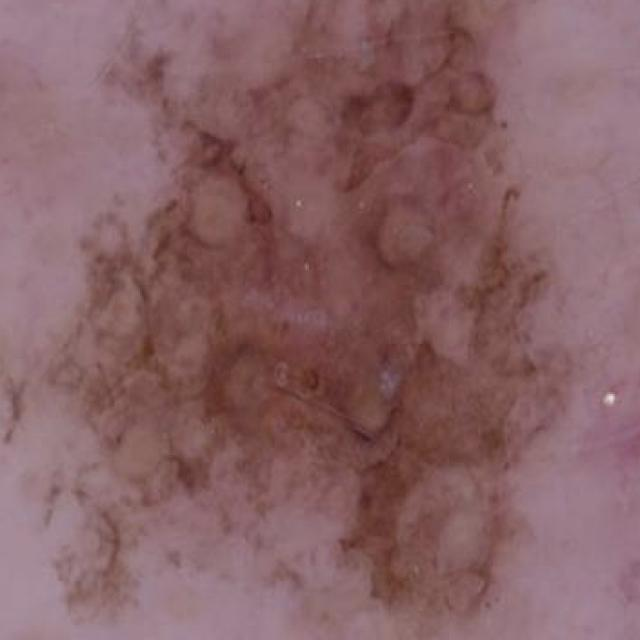BKL: (51, 0, 545, 640)
